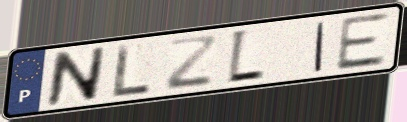E: (333, 11, 391, 73)
I: (311, 21, 328, 74)
L: (225, 28, 268, 87), (112, 42, 153, 100)
N: (43, 45, 108, 108)
Z: (163, 34, 221, 93)
